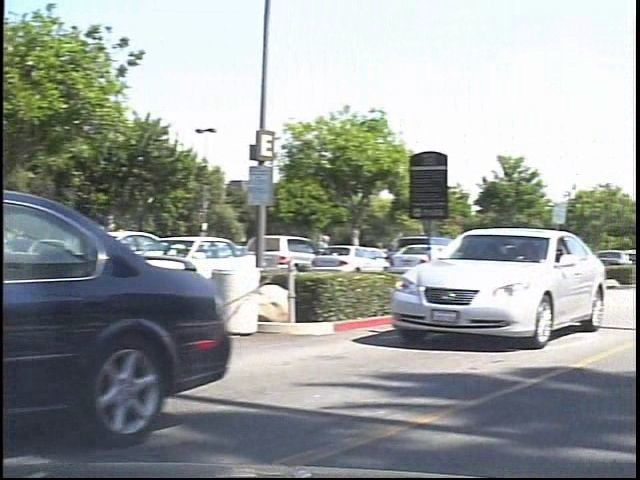person: (321, 227, 348, 278)
